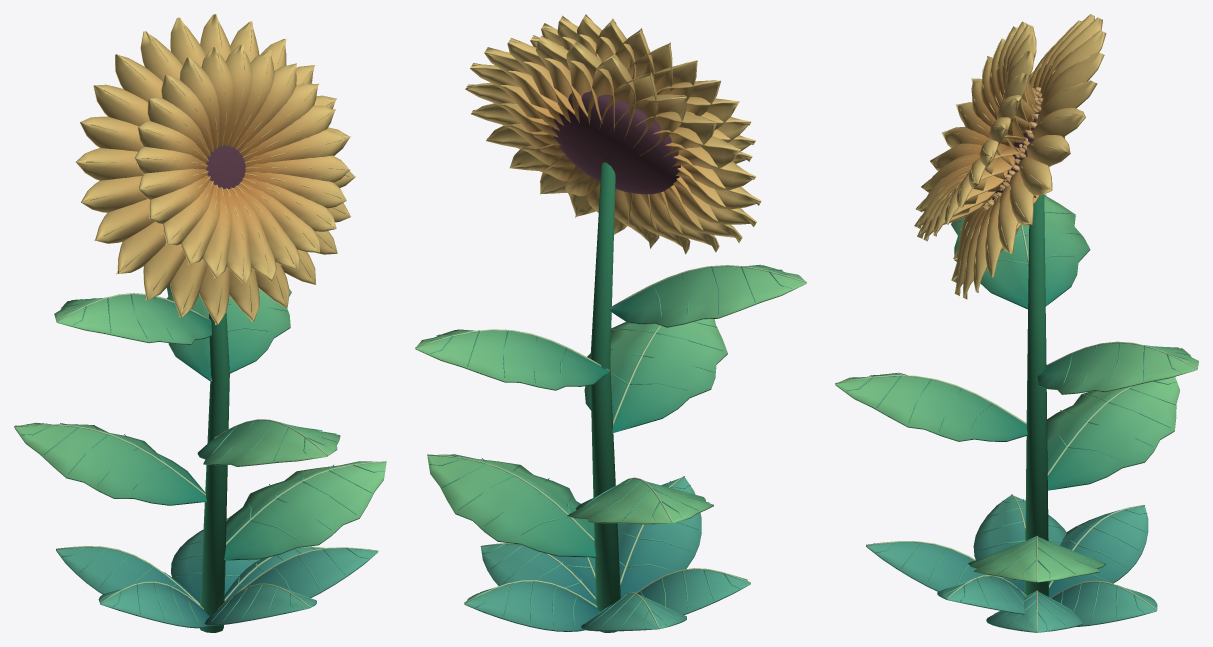
Rendered from enchanted-sunflower.glb.
The picture shows the model from 3 angles, left to right: view 1: azimuth 30°, elevation 25°; view 2: azimuth 150°, elevation 25°; view 3: azimuth 270°, elevation 25°; orthographic projection. The views are drawn at different scales.
Visible parts, largest first — view 1: enchanted-sunflower-sculpted-details; view 2: enchanted-sunflower-sculpted-details; view 3: enchanted-sunflower-sculpted-details.
Boxes of the visible parts, bbox=[...] form: enchanted-sunflower-sculpted-details: bbox=[14, 14, 386, 632]; enchanted-sunflower-sculpted-details: bbox=[415, 14, 806, 632]; enchanted-sunflower-sculpted-details: bbox=[835, 14, 1198, 632].
Size of the model in its own units: 0.6182 by 1 by 0.5592.
